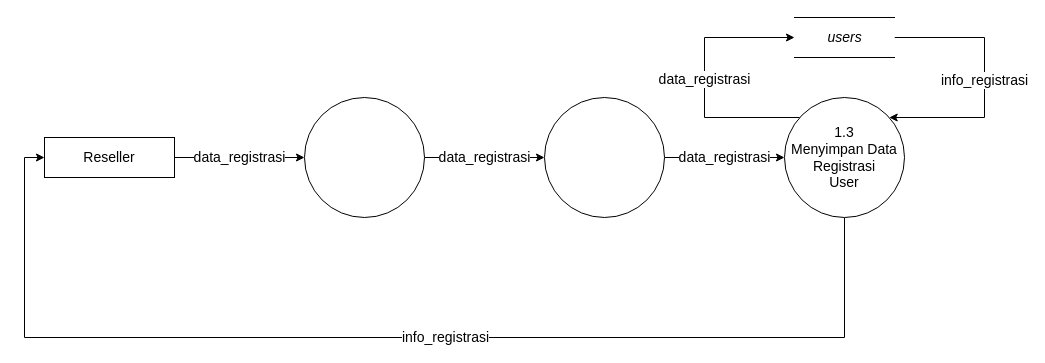
Image size: 1045x363. Some labels were removed from this diagram. Each missing label, with the centre of its shape:
"1.1 Input Biodata untuk Registrasi User" belongs at [364,157].
"1.2 Validasi Data Registrasi User" belongs at [604,157].
